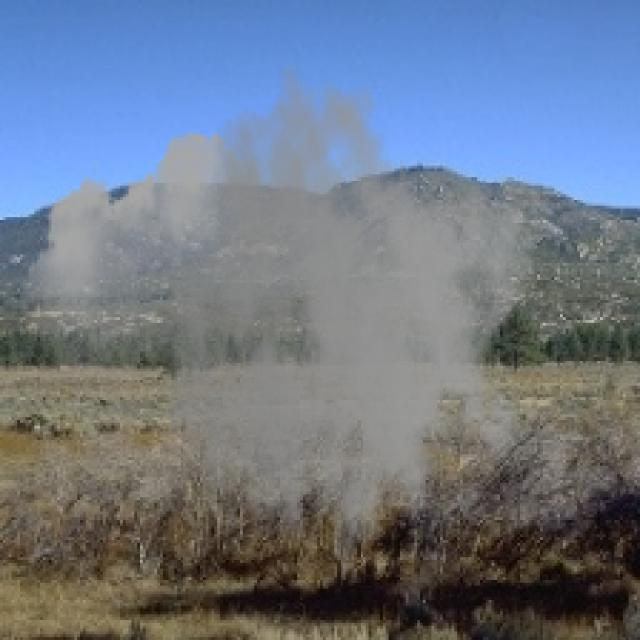smoke: (20, 63, 537, 606)
